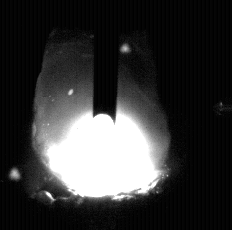arame: (93, 0, 118, 125)
poca: (31, 0, 170, 230)
